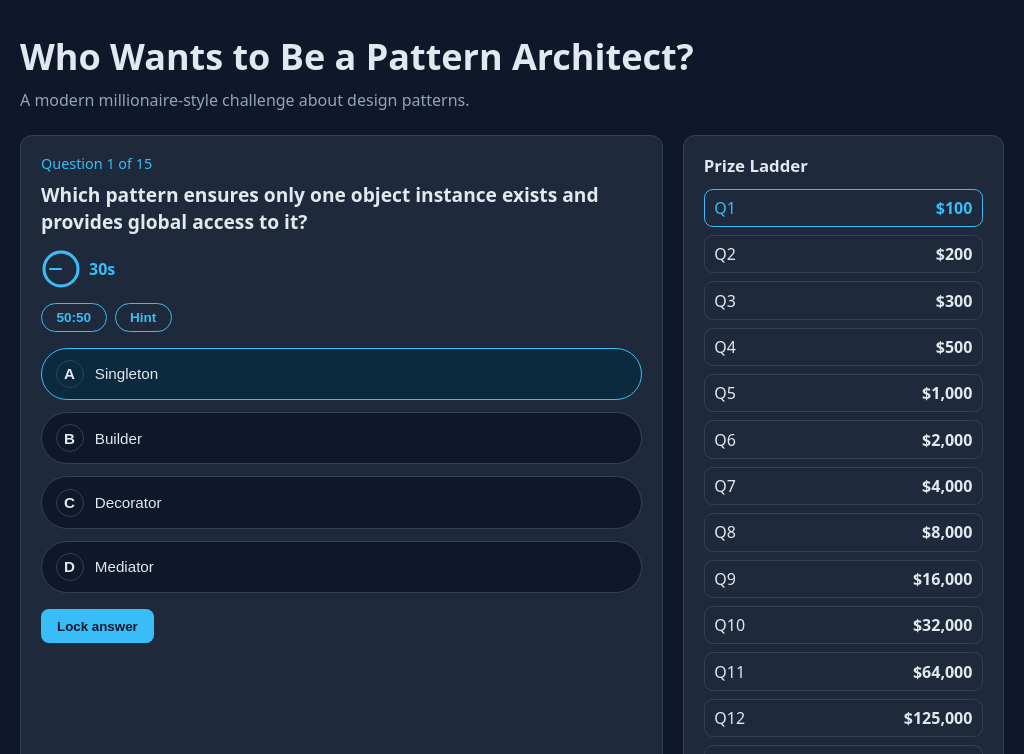
Test: QuizPage › removes two wrong answers when the 50:50 lifeline is used
The image size is (1024, 754).
Click the button "50:50": (74, 318) [41,303,107,332]
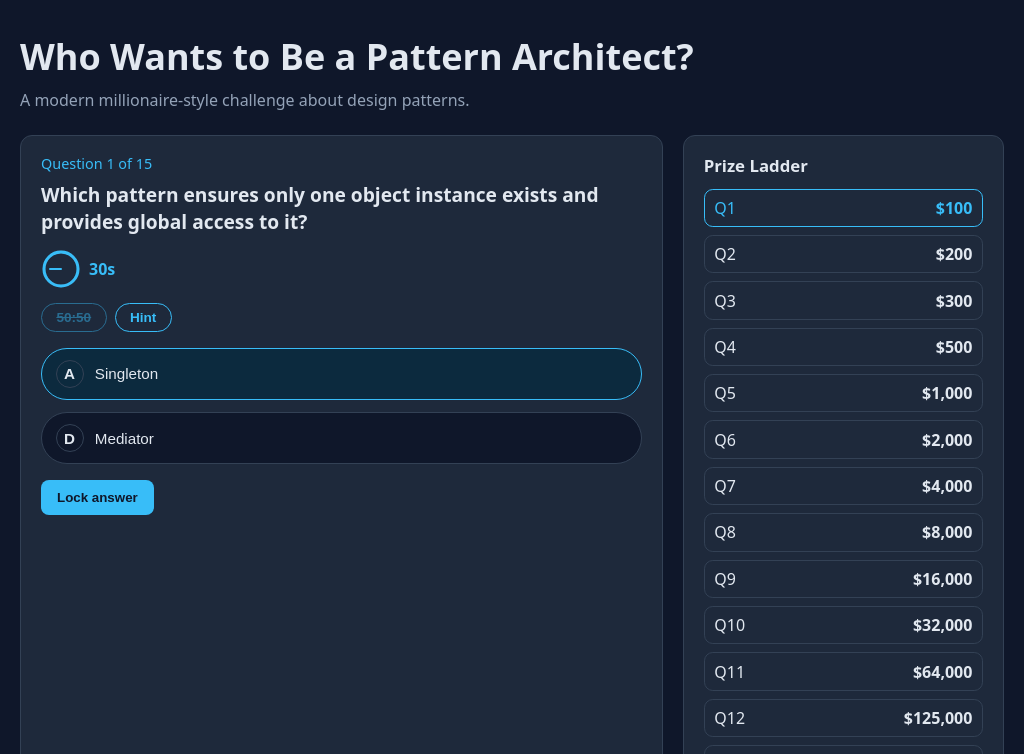
Check: the button "Builder" is gone
Check: the button "Decorator" is gone
Check: the button "50:50" is disabled, box [41,303,107,332]
